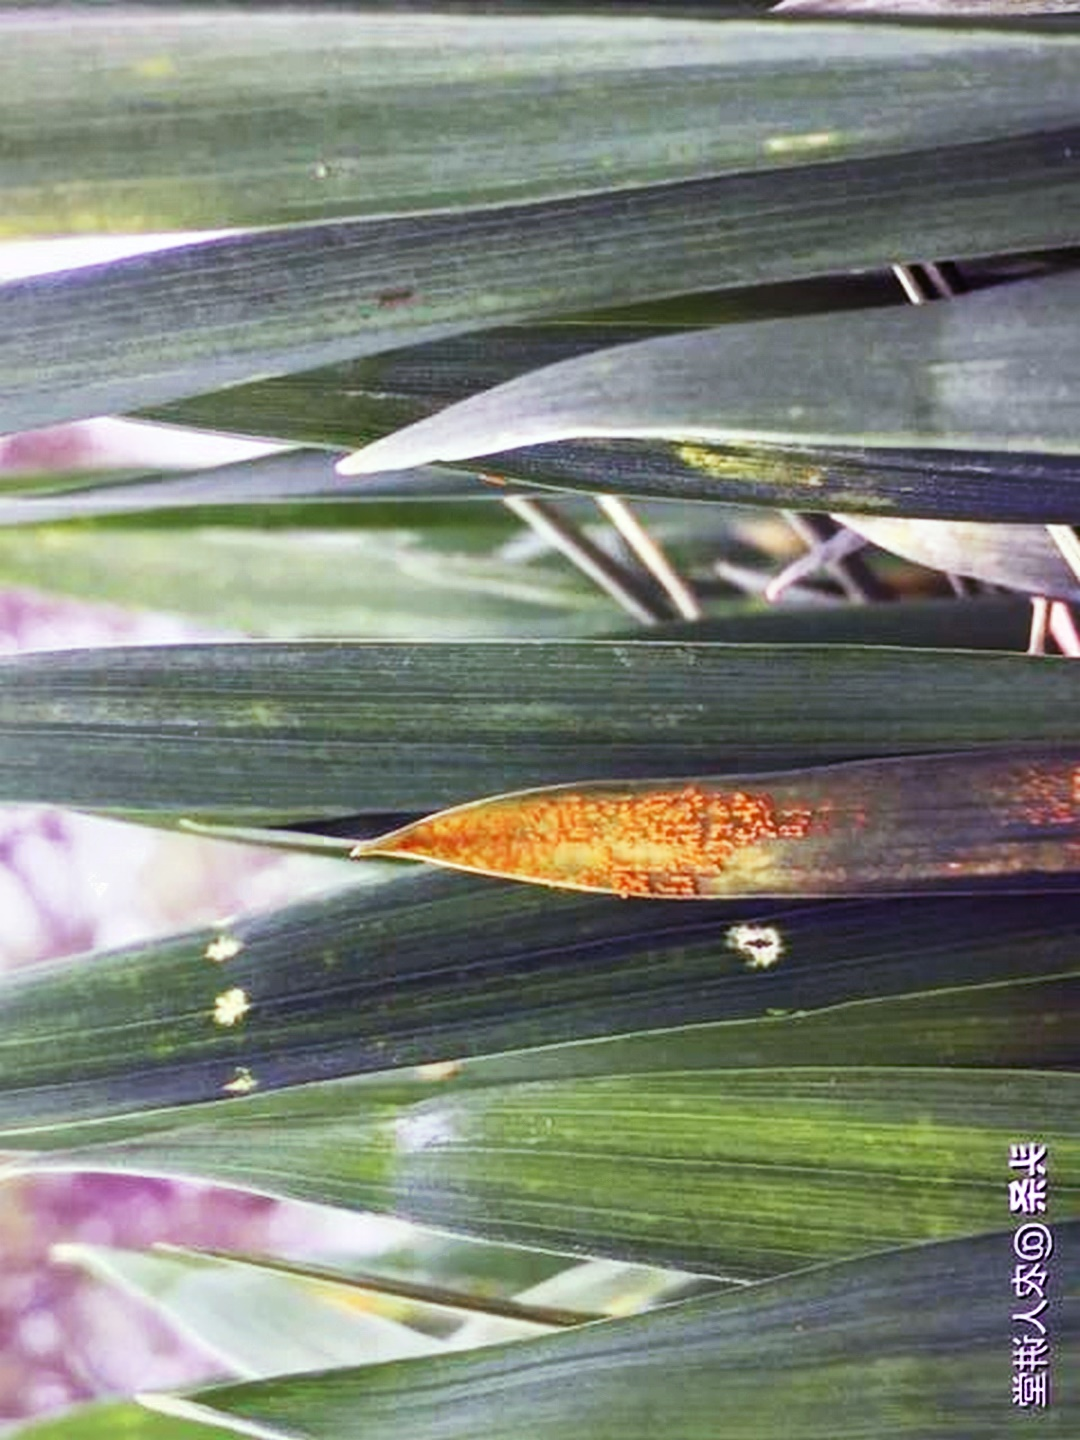Leaf Rust: (361, 752, 1058, 897)
